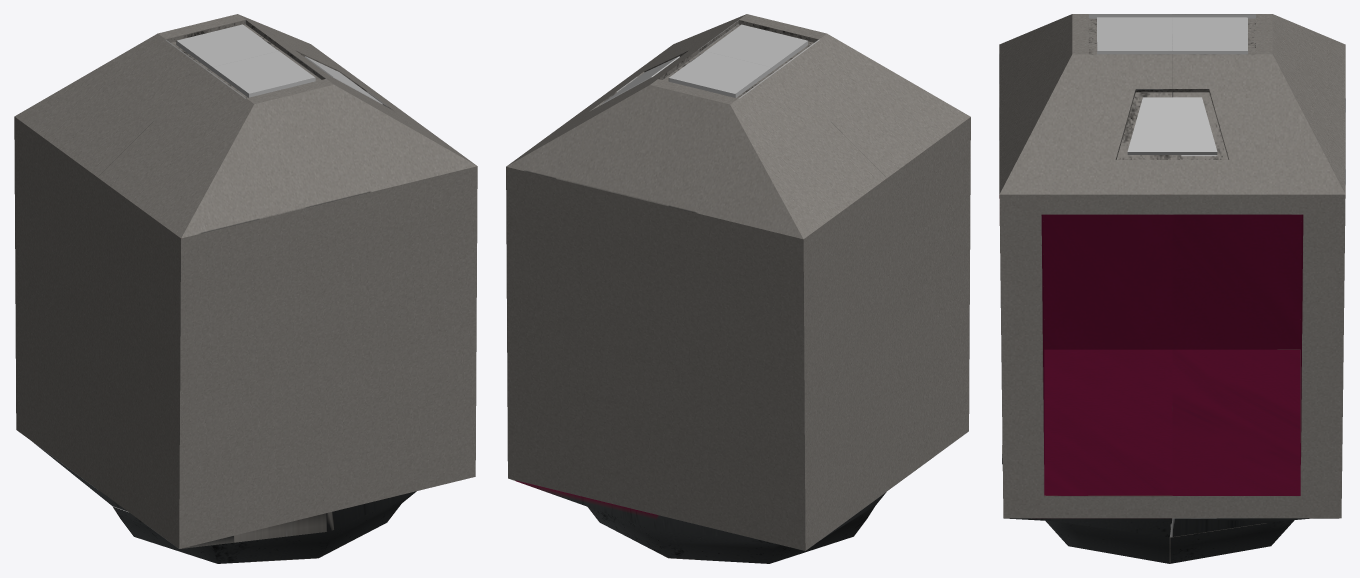
File: Drop Pod.fbx
3 renders of one model, left to right at view 1: azimuth 30°, elevation 25°; view 2: azimuth 150°, elevation 25°; view 3: azimuth 270°, elevation 25°, orthographic. The views are drawn at different scales.
Visible parts, largest first — view 1: Drop Pod; view 2: Drop Pod; view 3: Drop Pod.
Part boxes in pixels (bbox=[...]): Drop Pod: bbox=[14, 14, 477, 563]; Drop Pod: bbox=[506, 14, 970, 563]; Drop Pod: bbox=[999, 14, 1345, 563].
Size of the model in its own units: 102 by 155 by 99.43.
Materials: 1 (1 with a texture image).
